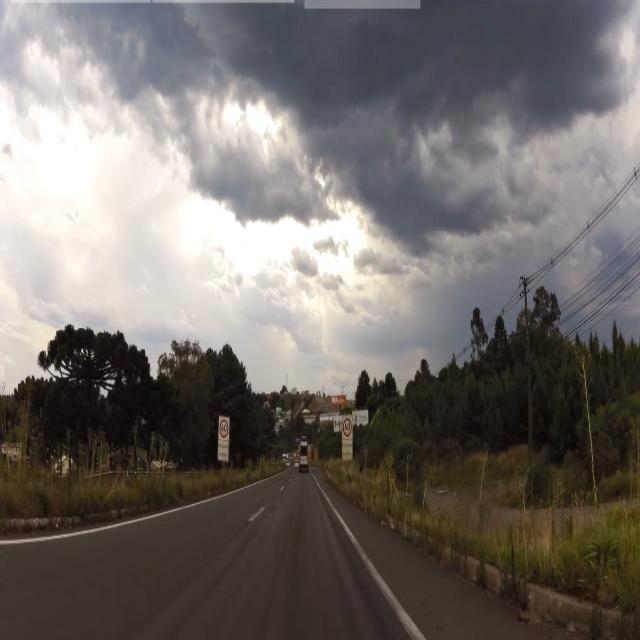R-19: (343, 418, 352, 440), (219, 420, 228, 438)
